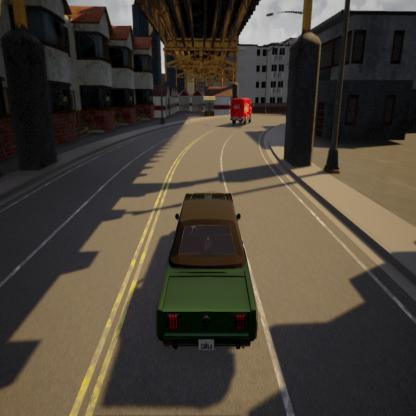Cars: (151, 187, 267, 365), (228, 95, 256, 128)
